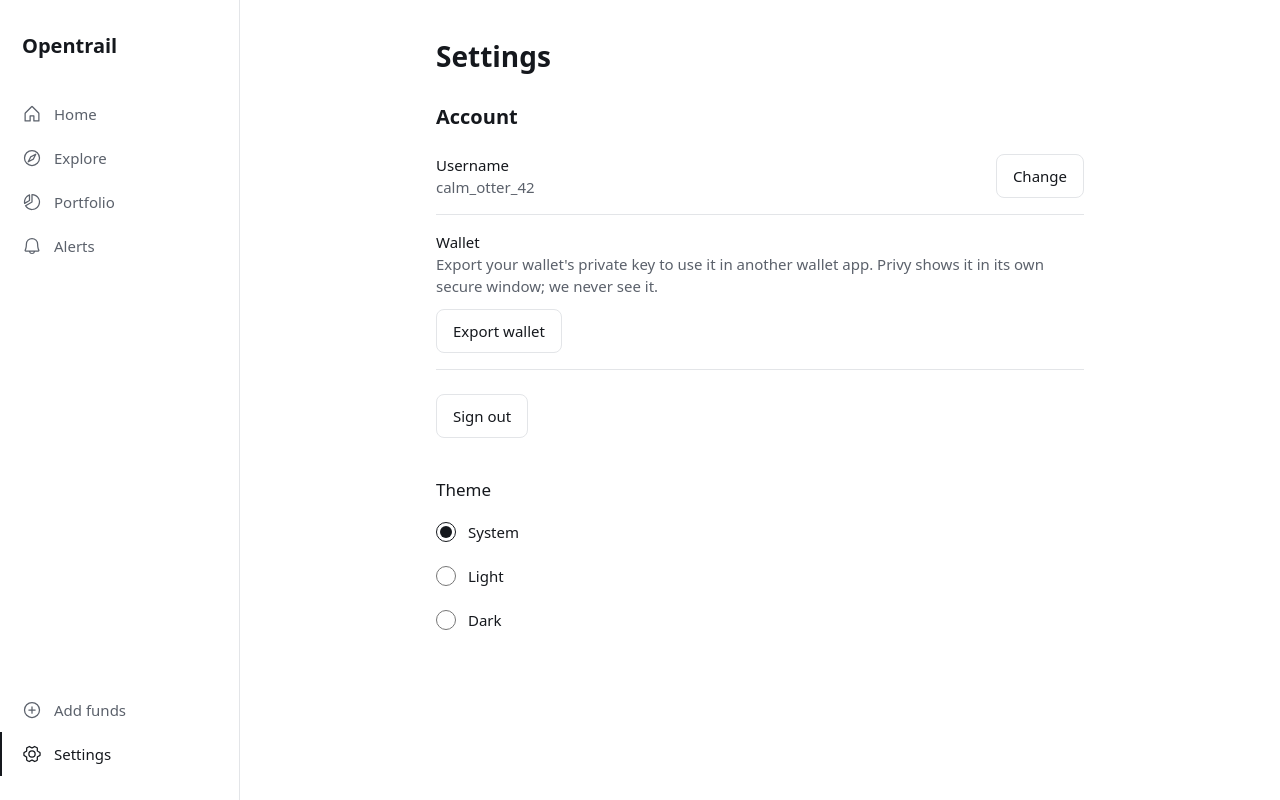
Test: the Account section › says so when the export window can't open
Click the button "Export wallet" at (499, 331), box left=436, top=309, right=562, bottom=353
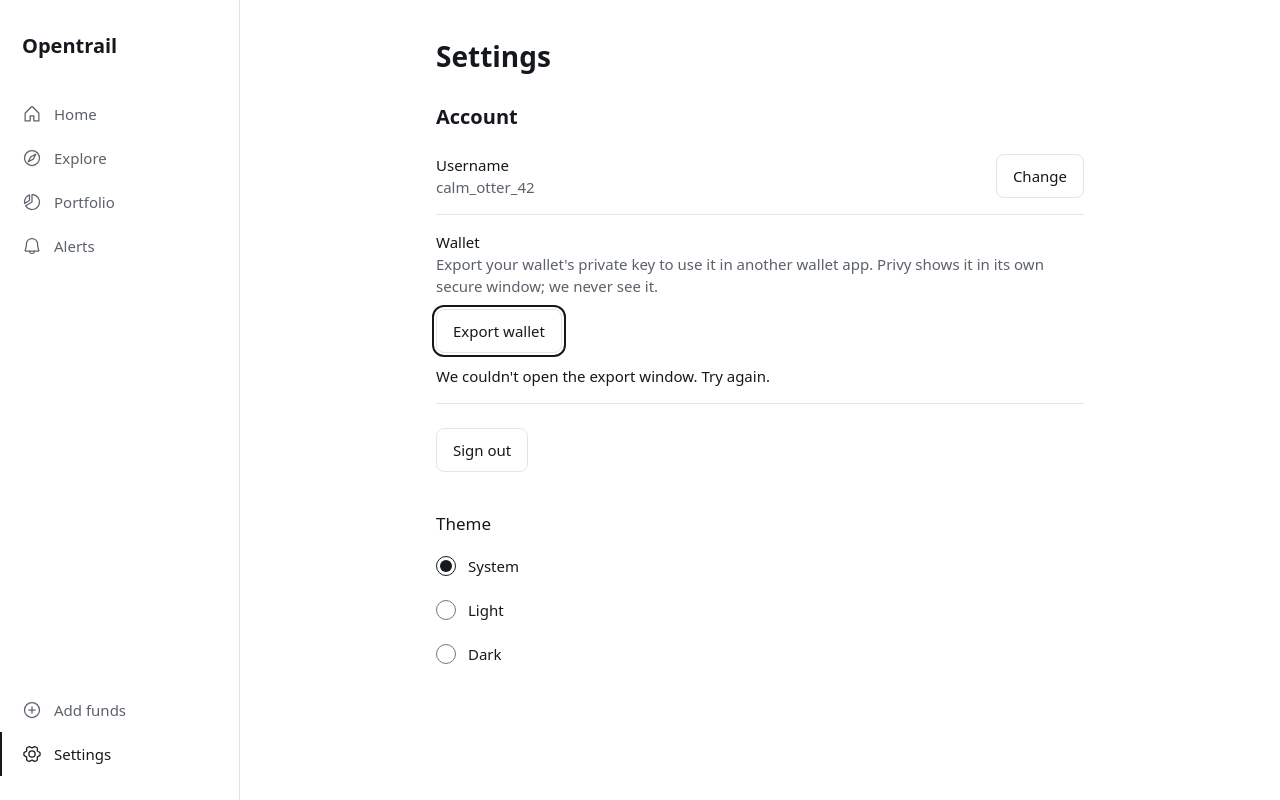
Result: the message reads "We couldn't open the export window. Try again." at left=436, top=366, right=770, bottom=386
